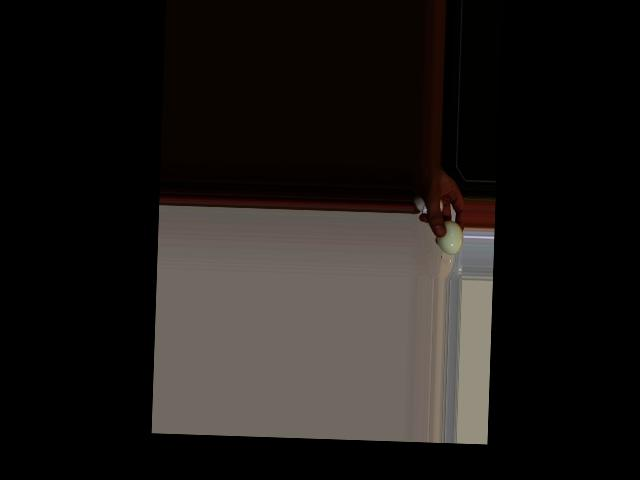egg: (435, 220, 463, 254)
